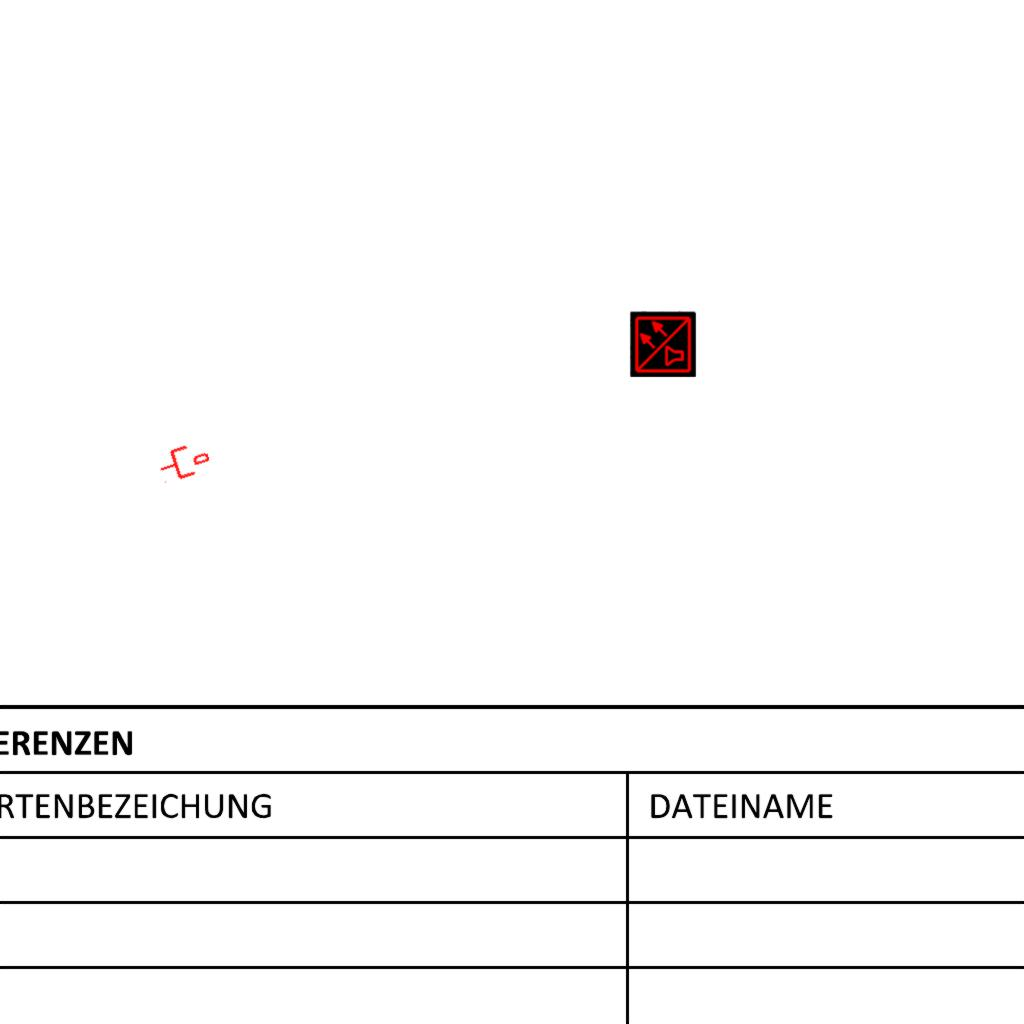Datenanschluss_einfach: (154, 438, 214, 486)
OKW_Multisensormelder_(Kombination_optischer_Rauch-Kahlenmonoxid_Waerme-Melder): (630, 311, 696, 377)
